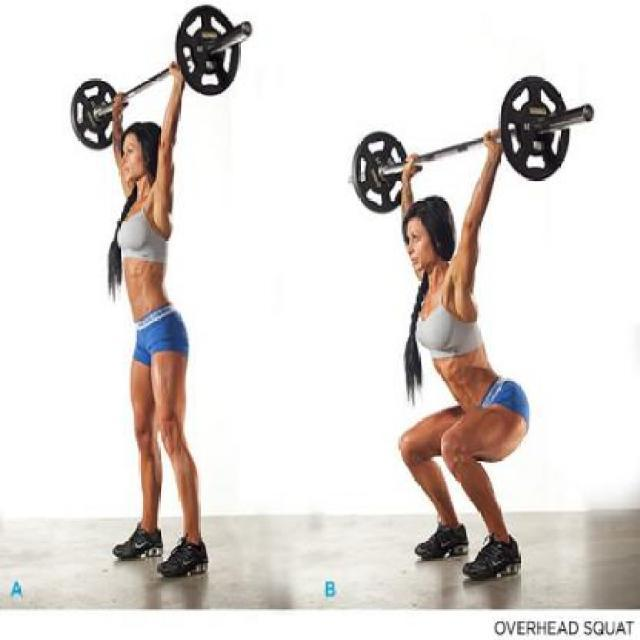Barbell: (578, 100, 598, 126), (240, 16, 256, 41)
